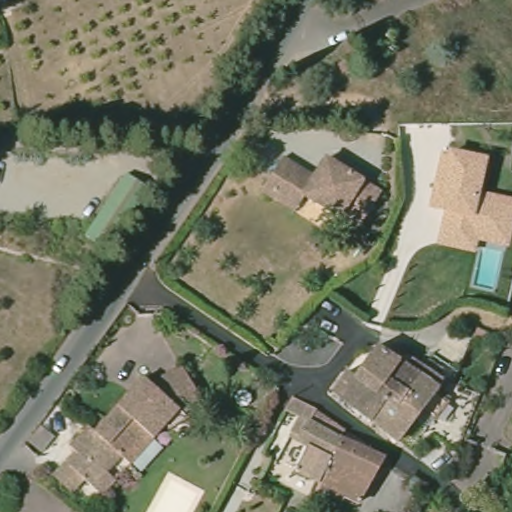pool: (468, 238, 508, 293)
